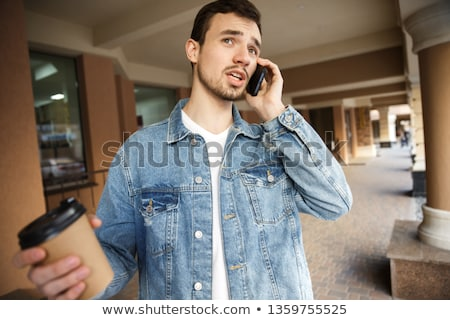phone: (241, 59, 271, 100)
talk: (210, 27, 283, 108)
